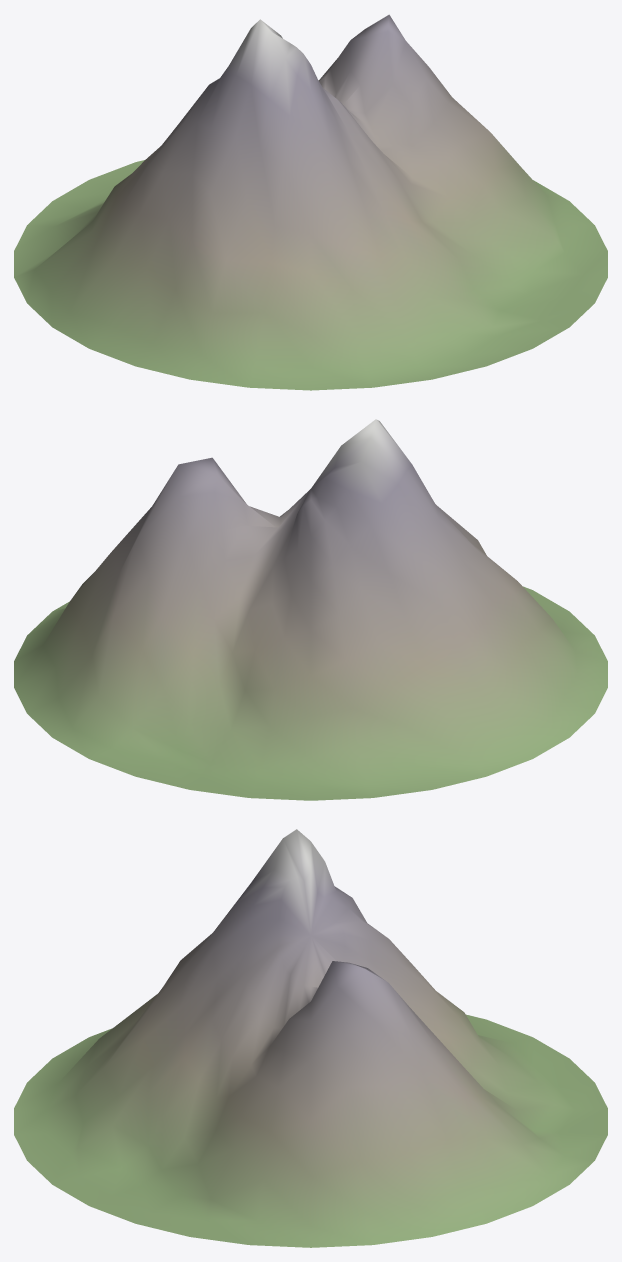
File: mountain_b.glb
3 views of the same model, one above another, from view 1: azimuth 30°, elevation 25°; view 2: azimuth 150°, elevation 25°; view 3: azimuth 270°, elevation 25° (orthographic).
Visible parts, largest first — view 1: mountain_b_terrain; view 2: mountain_b_terrain; view 3: mountain_b_terrain.
Part boxes in pixels (left/top/right/bottom): mountain_b_terrain: left=14, top=14, right=607, bottom=390; mountain_b_terrain: left=14, top=419, right=607, bottom=800; mountain_b_terrain: left=14, top=829, right=607, bottom=1247.
Size of the model in its own units: 2 by 0.9767 by 1.99.
